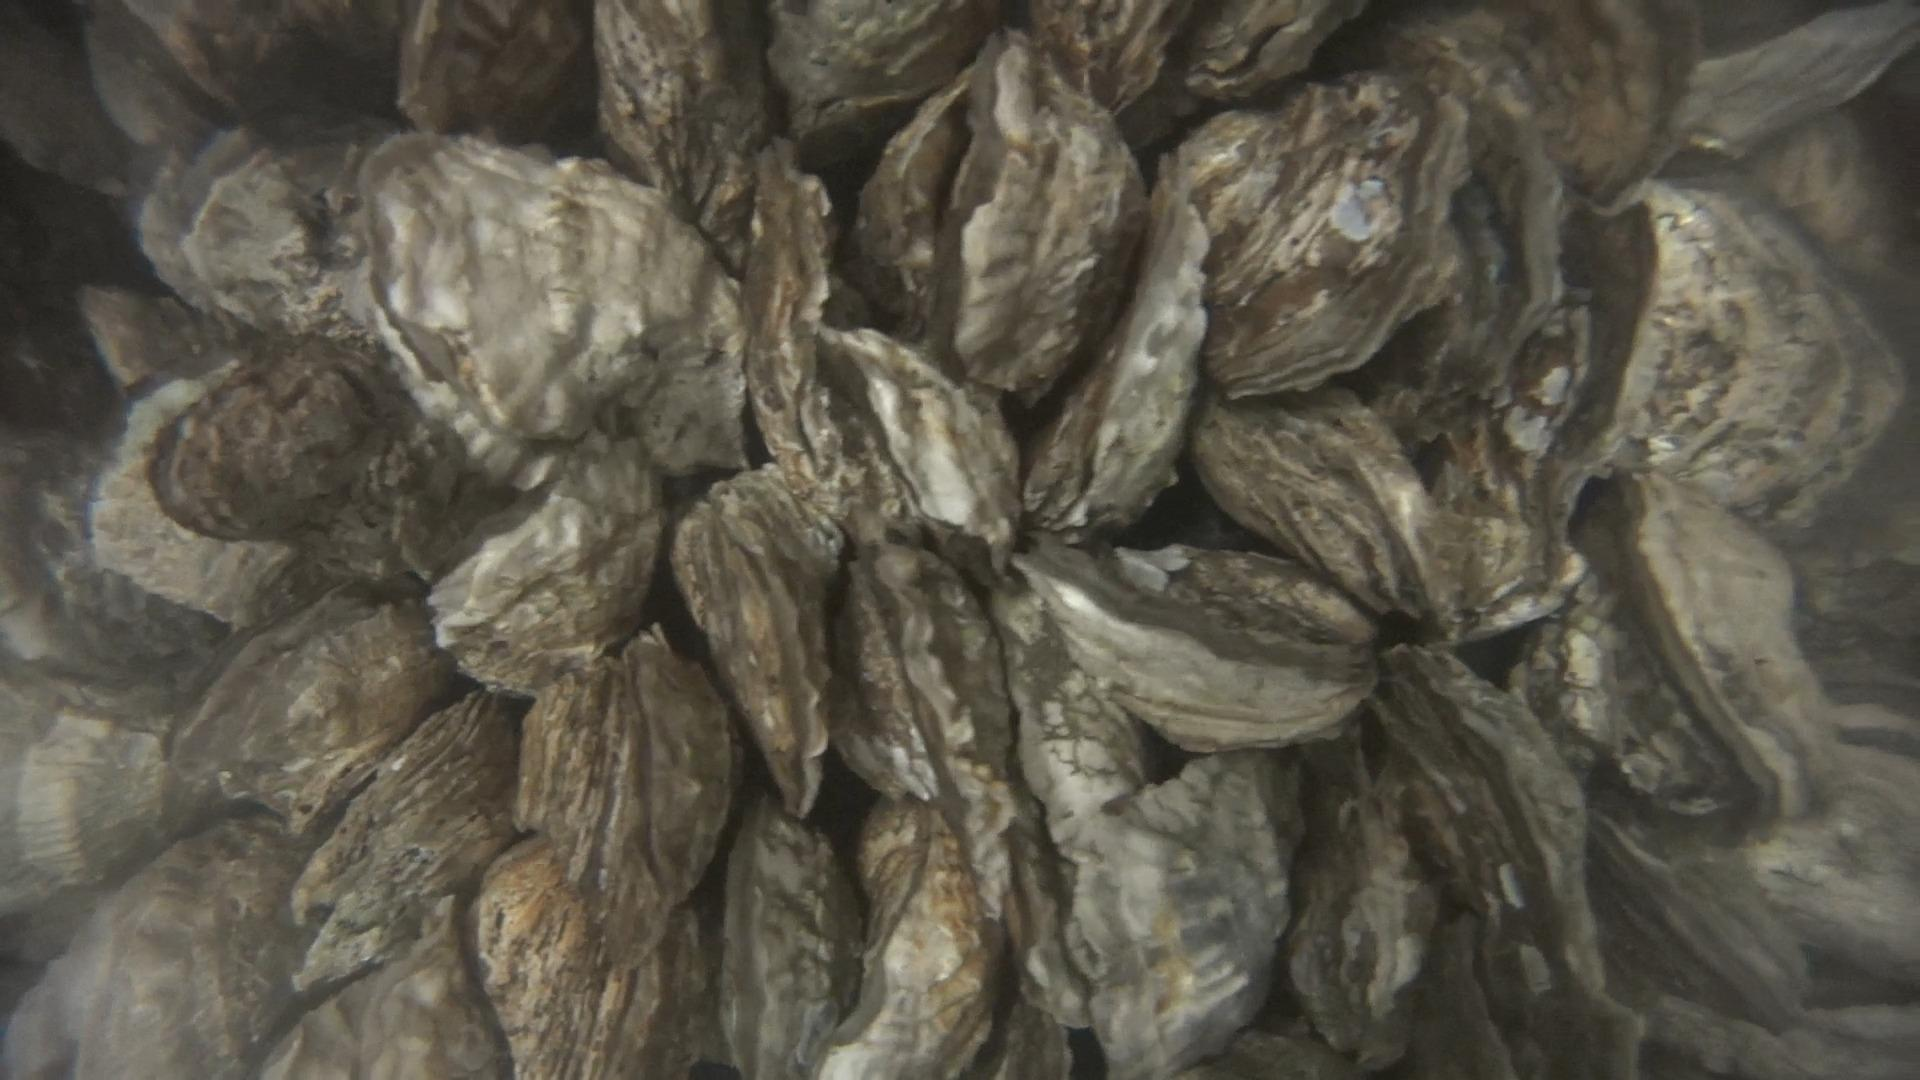3: (1370, 644, 1584, 978), (517, 634, 731, 953), (673, 464, 844, 820), (1185, 0, 1370, 100)
Oyster-Closed: (930, 29, 1149, 402), (1013, 549, 1383, 749), (1023, 152, 1207, 533), (874, 539, 1011, 895), (745, 133, 837, 513), (719, 794, 840, 1080)
Oyster-Open: (361, 133, 707, 436), (1178, 80, 1472, 401), (429, 429, 663, 700), (293, 694, 506, 992), (1195, 377, 1432, 622), (814, 323, 1023, 583), (145, 338, 400, 541), (1284, 732, 1425, 1077), (467, 833, 599, 1080)
